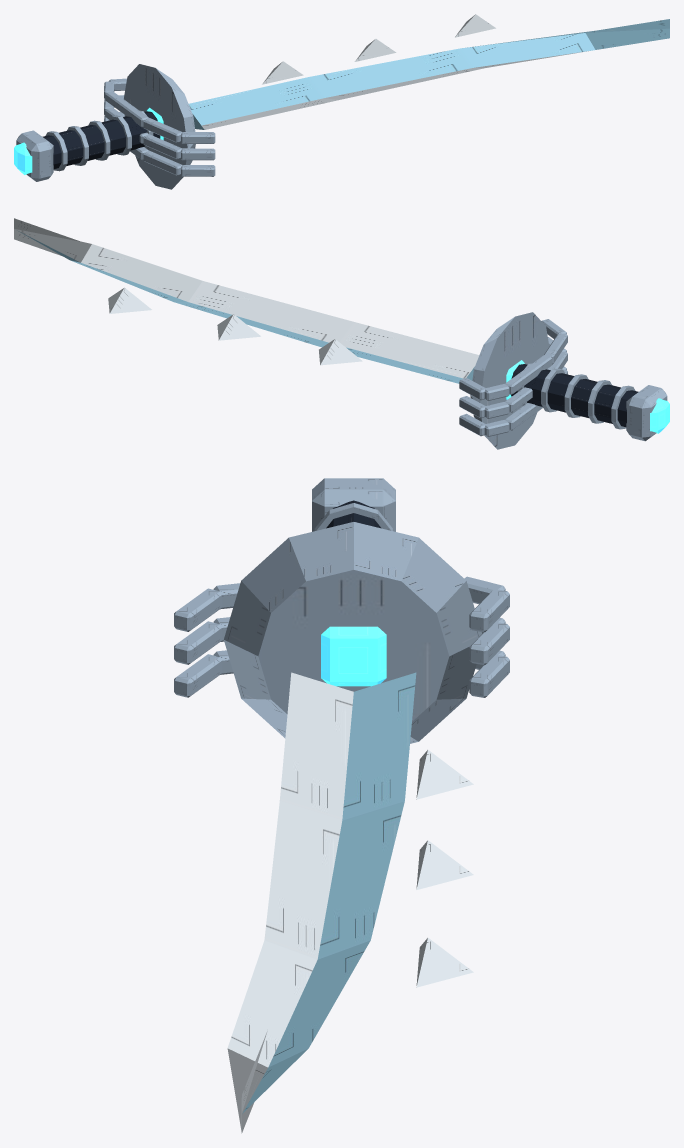
Rendered from frostsabre.glb.
3 renders of one model, top to bottom at view 1: azimuth 30°, elevation 25°; view 2: azimuth 150°, elevation 25°; view 3: azimuth 270°, elevation 25°, orthographic. The views are drawn at different scales.
Parts seen in each view (by area): view 1: blade, guard, grip; view 2: blade, guard, grip; view 3: blade, guard, grip.
Boxes of the visible parts, box(x1,y1,x2,y2) form: blade: box(188, 14, 669, 129); guard: box(104, 64, 215, 189); grip: box(14, 110, 160, 181); blade: box(14, 218, 479, 383); guard: box(459, 312, 567, 449); grip: box(511, 363, 669, 441); blade: box(227, 672, 473, 1133); guard: box(174, 522, 509, 743); grip: box(312, 478, 395, 531).
Bounding box in the file's own units: 0.8755 × 0.158 × 0.2042.
Materials: 5 (5 with a texture image).
